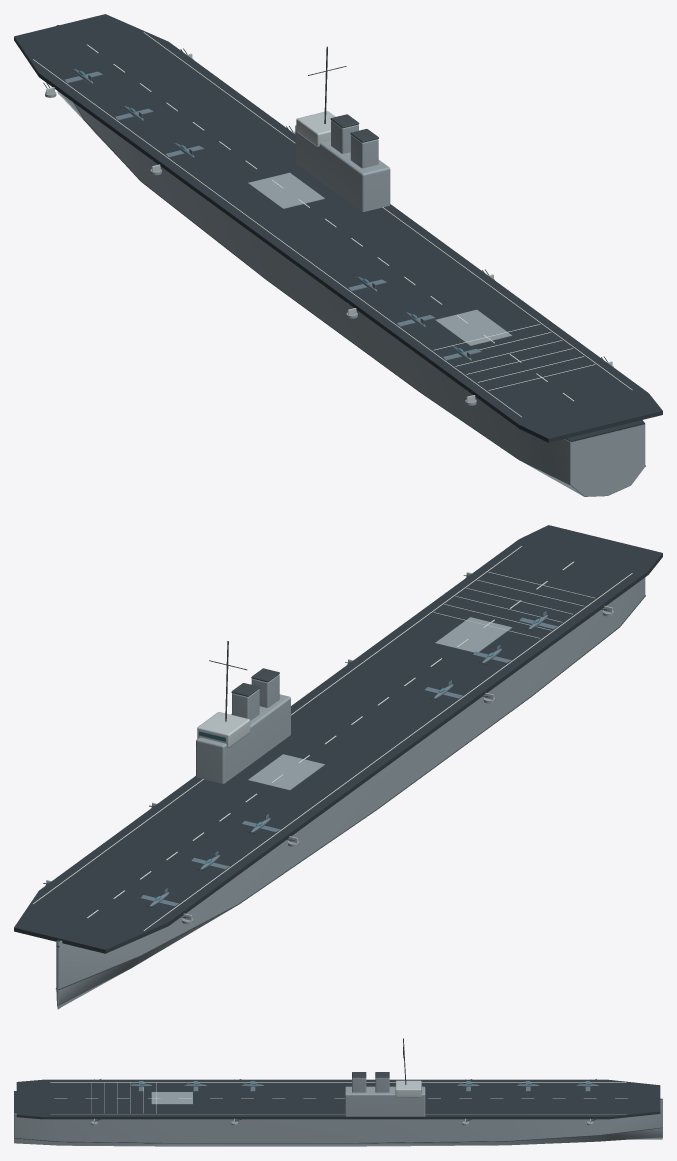
Rendered from generic-ww2-carrier.glb.
3 views of the same model, one above another, from view 1: azimuth 30°, elevation 25°; view 2: azimuth 150°, elevation 25°; view 3: azimuth 270°, elevation 25° (orthographic). The views are drawn at different scales.
Visible parts, largest first — view 1: ww2-carrier_StraightFlightDeck, ww2-carrier_Hull, ww2-carrier_Island, ww2-carrier_DeckElevator.001, ww2-carrier_DeckElevator, ww2-carrier_IslandBridge, ww2-carrier_FlightDeckBoundary, ww2-carrier_Funnel, ww2-carrier_FlightDeckBoundary.001; view 2: ww2-carrier_StraightFlightDeck, ww2-carrier_Hull, ww2-carrier_Island, ww2-carrier_DeckElevator.001, ww2-carrier_DeckElevator, ww2-carrier_IslandBridge, ww2-carrier_FlightDeckBoundary, ww2-carrier_FlightDeckBoundary.001; view 3: ww2-carrier_StraightFlightDeck, ww2-carrier_Hull, ww2-carrier_Island, ww2-carrier_DeckElevator, ww2-carrier_FlightDeckBoundary, ww2-carrier_FlightDeckBoundary.001, ww2-carrier_IslandBridge, ww2-carrier_Funnel.001, ww2-carrier_Funnel, ww2-carrier_Waterline.009.
Part boxes in pixels (box(x1,y1,x2,y2)): ww2-carrier_StraightFlightDeck: box(14, 14, 662, 442); ww2-carrier_Hull: box(56, 25, 645, 496); ww2-carrier_Island: box(295, 125, 390, 211); ww2-carrier_DeckElevator.001: box(248, 172, 324, 208); ww2-carrier_DeckElevator: box(435, 309, 512, 345); ww2-carrier_IslandBridge: box(296, 111, 335, 146); ww2-carrier_FlightDeckBoundary: box(33, 59, 521, 417); ww2-carrier_Funnel: box(350, 135, 378, 168); ww2-carrier_FlightDeckBoundary.001: box(143, 32, 632, 390); ww2-carrier_StraightFlightDeck: box(14, 525, 662, 953); ww2-carrier_Hull: box(56, 577, 645, 1009); ww2-carrier_Island: box(196, 694, 290, 783); ww2-carrier_DeckElevator.001: box(248, 754, 324, 790); ww2-carrier_DeckElevator: box(435, 617, 512, 652); ww2-carrier_IslandBridge: box(197, 712, 250, 747); ww2-carrier_FlightDeckBoundary: box(143, 573, 632, 930); ww2-carrier_FlightDeckBoundary.001: box(33, 546, 522, 904); ww2-carrier_StraightFlightDeck: box(16, 1079, 660, 1119); ww2-carrier_Hull: box(14, 1098, 662, 1146); ww2-carrier_Island: box(345, 1086, 425, 1116); ww2-carrier_DeckElevator: box(151, 1092, 192, 1104); ww2-carrier_FlightDeckBoundary: box(50, 1082, 626, 1082); ww2-carrier_FlightDeckBoundary.001: box(50, 1114, 626, 1114); ww2-carrier_IslandBridge: box(395, 1080, 421, 1097); ww2-carrier_Funnel.001: box(375, 1077, 389, 1092); ww2-carrier_Funnel: box(352, 1077, 366, 1092); ww2-carrier_Waterline.009: box(351, 1141, 507, 1143).
Bounding box in the file's own units: 38.6 × 49.03 × 250.
